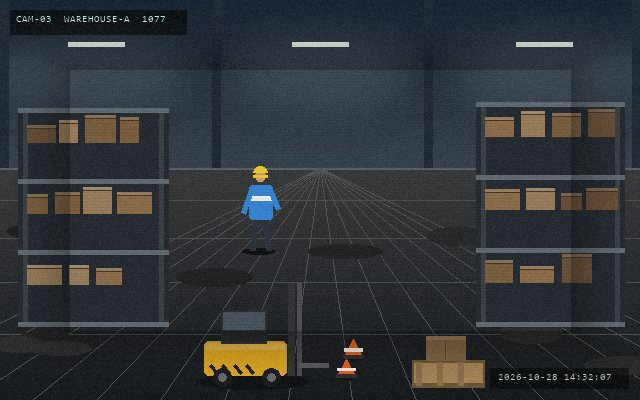cone: (342, 337, 364, 361), (335, 357, 357, 380)
forklift: (200, 281, 330, 389)
pallet: (410, 358, 486, 389)
person: (241, 164, 280, 253)
shelf: (476, 102, 624, 322), (18, 108, 168, 322)
